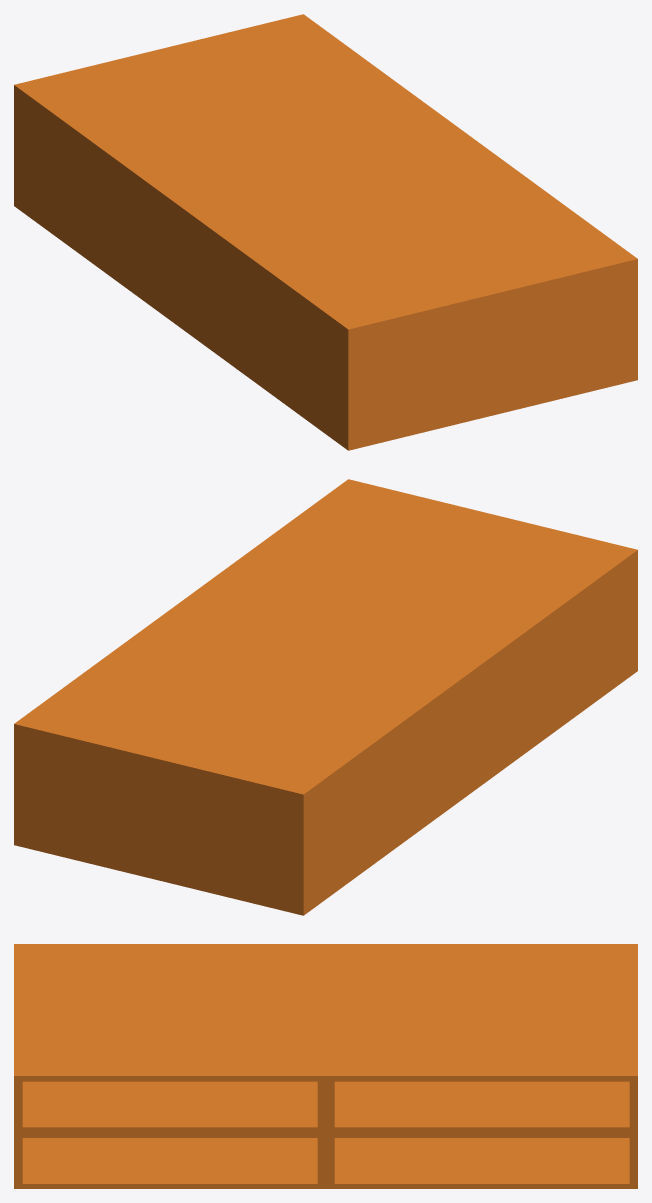
File: tv_bench.fbx
3 renders of one model, top to bottom at view 1: azimuth 30°, elevation 25°; view 2: azimuth 150°, elevation 25°; view 3: azimuth 270°, elevation 25°, orthographic. The views are drawn at different scales.
Parts seen in each view (by area): view 1: Cube; view 2: Cube; view 3: Cube.
Part boxes in pixels (x1,y1,x2,y2): Cube: [14, 14, 637, 450]; Cube: [14, 479, 637, 915]; Cube: [14, 944, 637, 1188].
Size of the model in its own units: 200 by 80 by 400.
